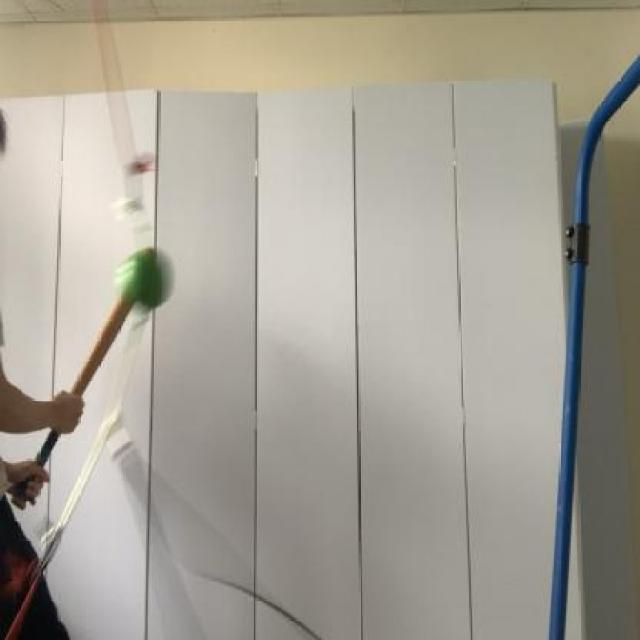baseball: (108, 235, 182, 334)
